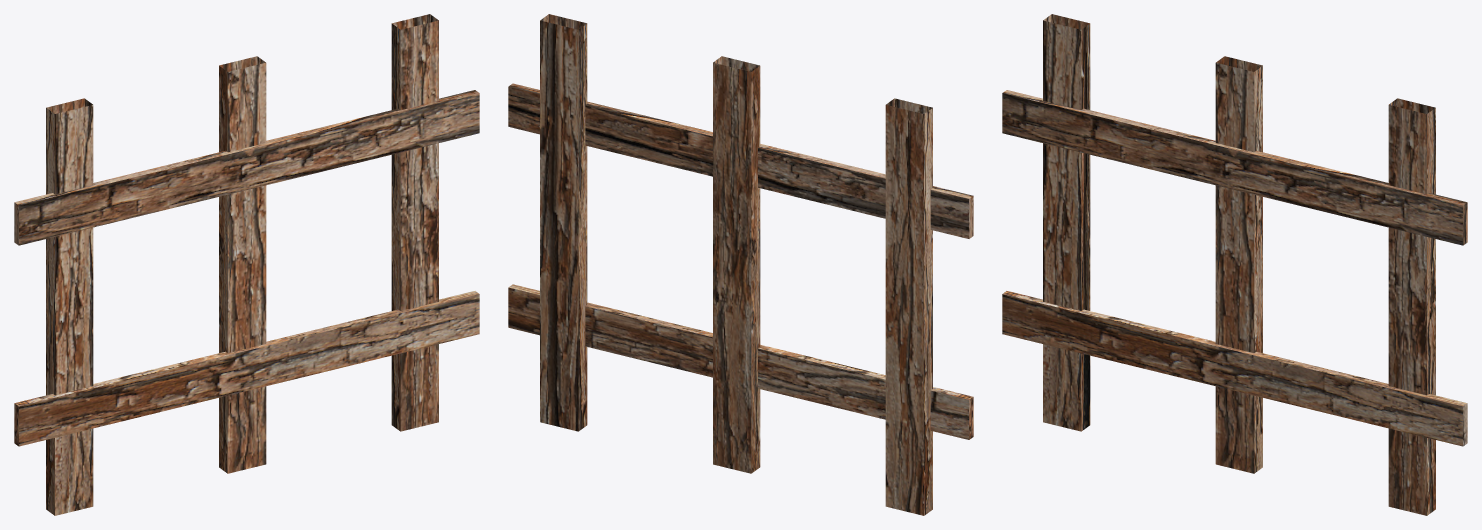
File: SM_Lake_Fence.fbx
3 views of the same model, side by side, from view 1: azimuth 30°, elevation 25°; view 2: azimuth 150°, elevation 25°; view 3: azimuth 330°, elevation 25° (orthographic).
Parts seen in each view (by area): view 1: SM_Lake_Fence; view 2: SM_Lake_Fence; view 3: SM_Lake_Fence.
Boxes of the visible parts, bbox=[...] form: SM_Lake_Fence: bbox=[14, 14, 479, 515]; SM_Lake_Fence: bbox=[508, 14, 973, 515]; SM_Lake_Fence: bbox=[1002, 14, 1467, 515].
Bounding box in the file's own units: 120 × 100 × 5.
Materials: 1 (1 with a texture image).
